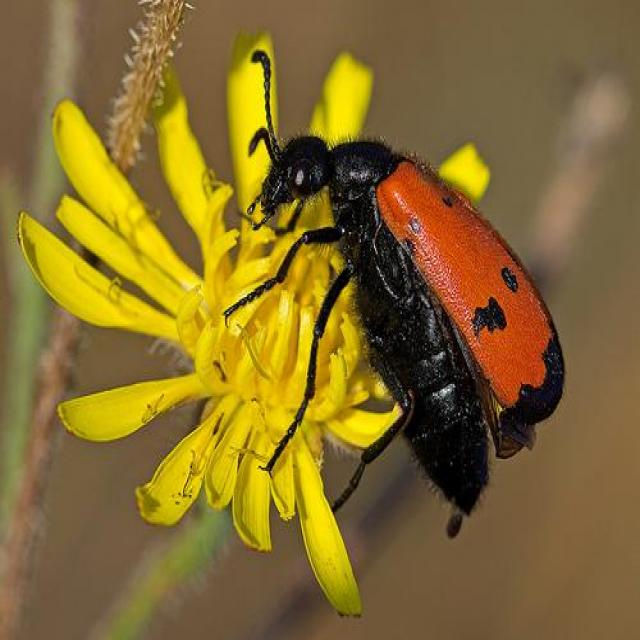BlisterBeetle-Adult-: (217, 47, 562, 542)
